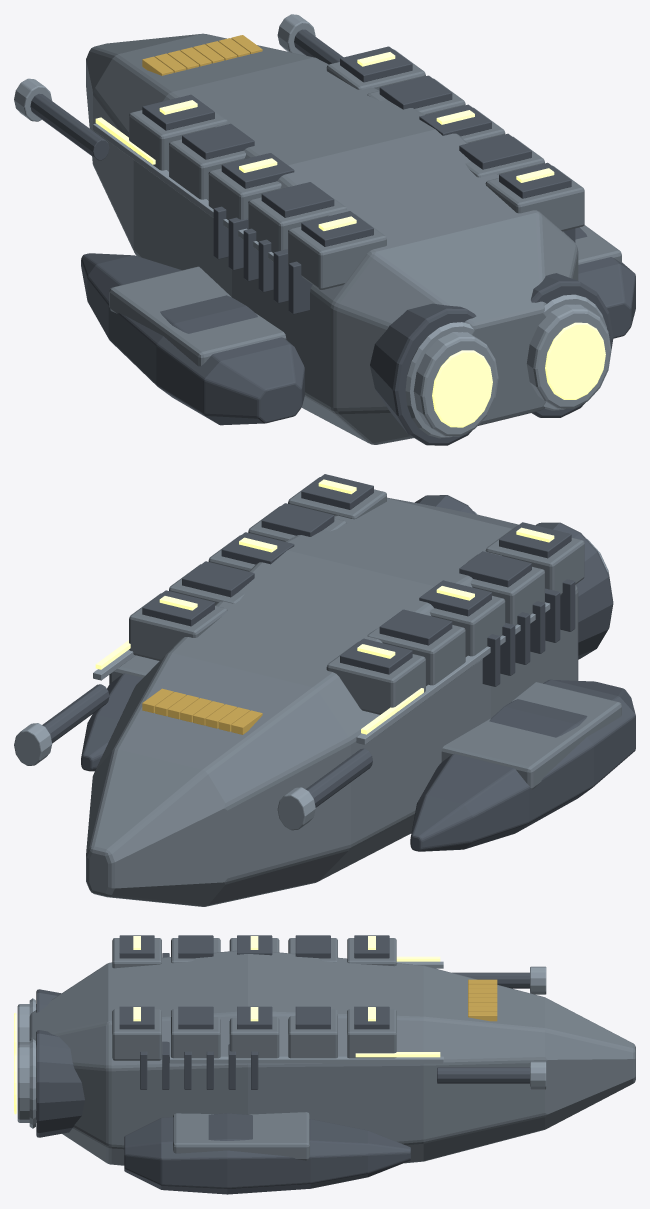
The model's file is frigate_kestrel.glb.
The picture shows the model from 3 angles, top to bottom: view 1: azimuth 30°, elevation 25°; view 2: azimuth 150°, elevation 25°; view 3: azimuth 270°, elevation 25°; orthographic projection. The views are drawn at different scales.
Parts seen in each view (by area): view 1: roaming_hull, roaming_dark, roaming_trim, roaming_glow, roaming_glass; view 2: roaming_hull, roaming_dark, roaming_trim, roaming_glass, roaming_glow; view 3: roaming_hull, roaming_dark, roaming_trim, roaming_glow, roaming_glass.
Boxes of the visible parts, left/top/right/bottom form: roaming_hull: left=86, top=33, right=621, bottom=444; roaming_dark: left=30, top=29, right=635, bottom=445; roaming_trim: left=14, top=14, right=611, bottom=438; roaming_glow: left=95, top=52, right=605, bottom=427; roaming_glass: left=142, top=35, right=262, bottom=75; roaming_hull: left=86, top=477, right=621, bottom=906; roaming_dark: left=42, top=474, right=635, bottom=851; roaming_trim: left=14, top=511, right=609, bottom=830; roaming_glass: left=142, top=688, right=262, bottom=734; roaming_glow: left=95, top=479, right=554, bottom=734; roaming_hull: left=29, top=938, right=635, bottom=1165; roaming_dark: left=36, top=935, right=529, bottom=1194; roaming_trim: left=17, top=961, right=546, bottom=1128; roaming_glow: left=14, top=936, right=440, bottom=1114; roaming_glass: left=468, top=979, right=497, bottom=1021.
Size of the model in its own units: 18 by 9 by 30.
